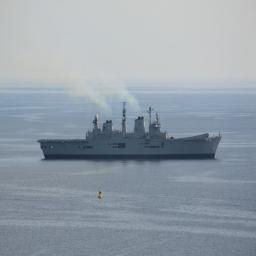Portanaves: (37, 96, 223, 163)
